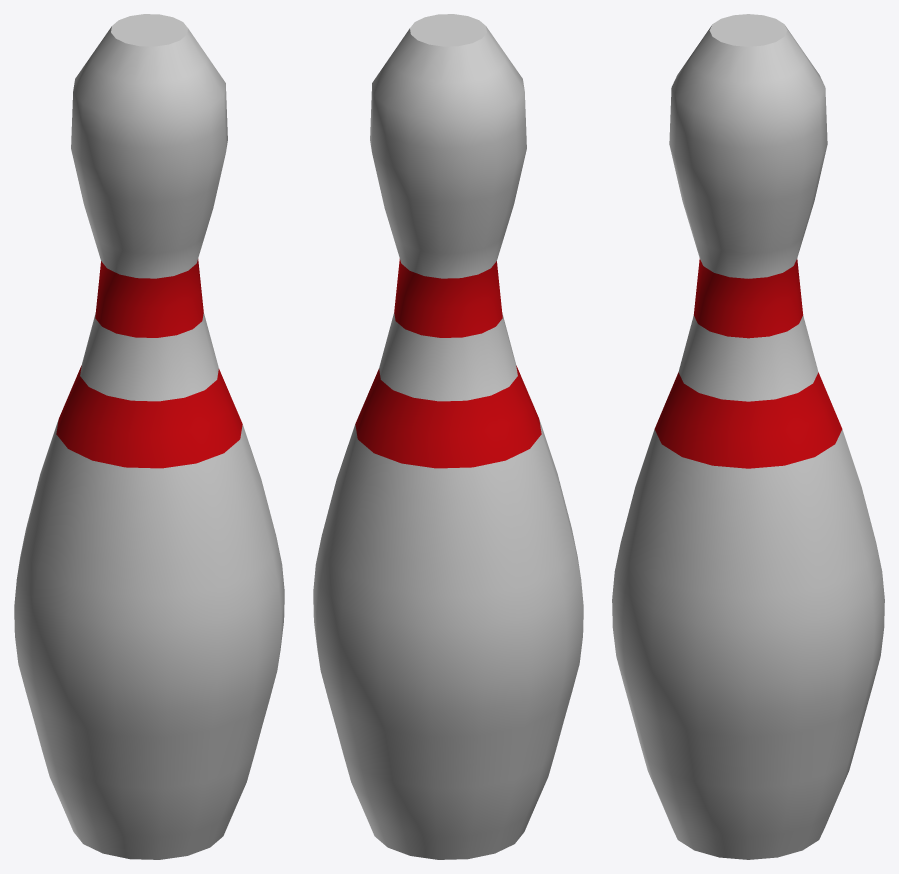
Rendered from Bowling Pin.fbx.
3 renders of one model, left to right at view 1: azimuth 30°, elevation 25°; view 2: azimuth 150°, elevation 25°; view 3: azimuth 270°, elevation 25°, orthographic.
Parts seen in each view (by area): view 1: Pin_Render; view 2: Pin_Render; view 3: Pin_Render.
Boxes of the visible parts, x1,y1,x2,y2 form: Pin_Render: (14,14,284,859); Pin_Render: (313,14,583,859); Pin_Render: (612,14,884,859).
Size of the model in its own units: 1172 by 3780 by 1172.
